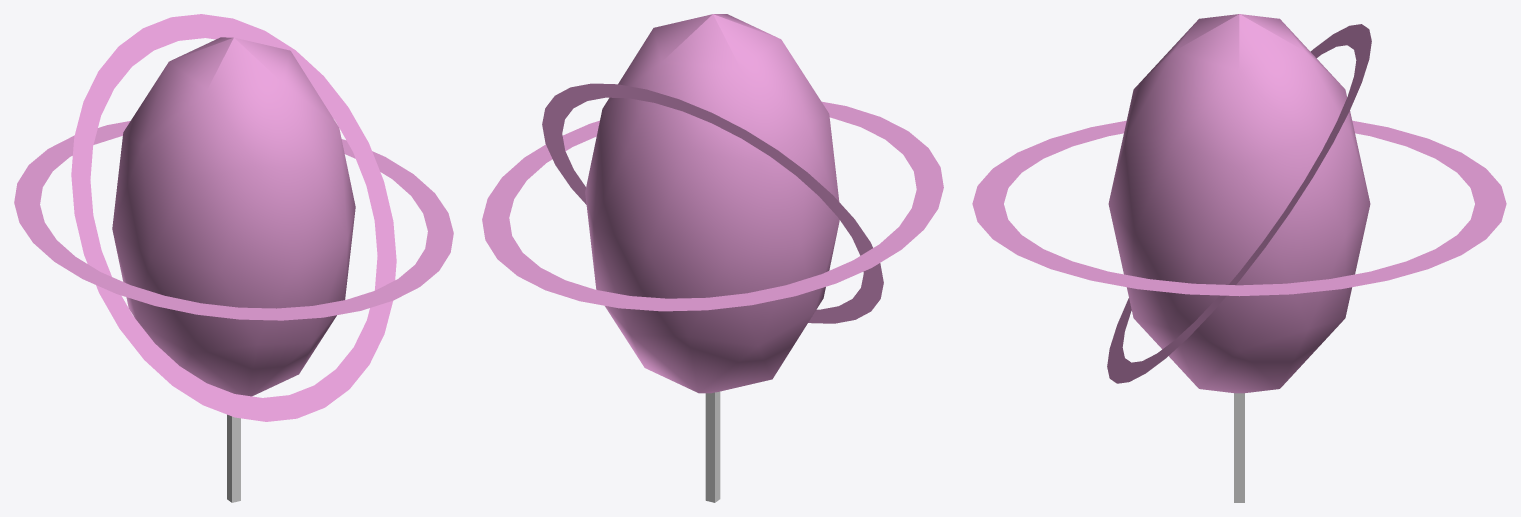
File: CandyFlossPink.fbx
3 renders of one model, left to right at view 1: azimuth 30°, elevation 25°; view 2: azimuth 150°, elevation 25°; view 3: azimuth 270°, elevation 25°, orthographic. The views are drawn at different scales.
Parts seen in each view (by area): view 1: CandyFlossPink; view 2: CandyFlossPink; view 3: CandyFlossPink.
Boxes of the visible parts, box(x1,y1,x2,y2) form: CandyFlossPink: box(14, 14, 453, 502); CandyFlossPink: box(482, 14, 943, 502); CandyFlossPink: box(972, 14, 1506, 502).
Bounding box in the file's own units: 128 × 158 × 157.
